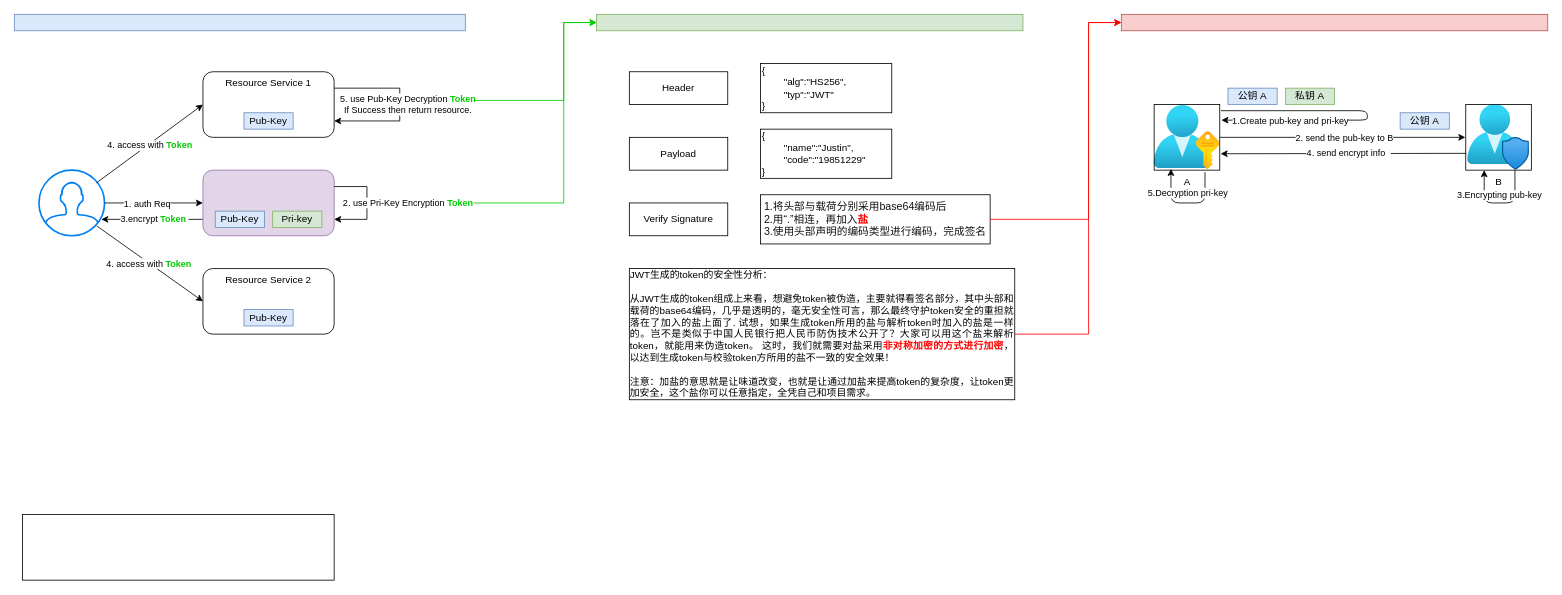
Image size: 1562x595. Some labels were removed from this diagram. Each missing label, with the box of its shape:
Auth Server: (202, 169, 334, 236)
JWT - Json Web Token: (596, 14, 1023, 31)
Ref: 1.https://zhuanlan.zhihu.com/p/347195713: (22, 514, 334, 580)
RSA - 非对称加密: (1121, 14, 1548, 31)
SSO - Single Sign On: (14, 14, 465, 31)
